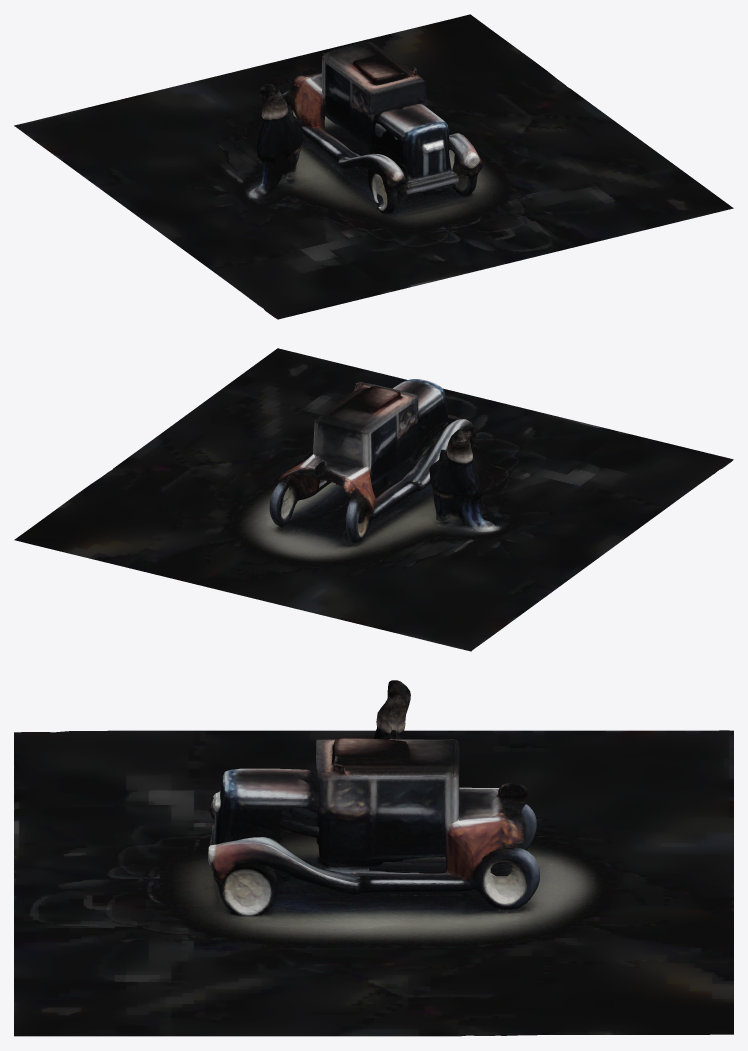
Rendered from trellis_result.glb.
3 renders of one model, top to bottom at view 1: azimuth 30°, elevation 25°; view 2: azimuth 150°, elevation 25°; view 3: azimuth 270°, elevation 25°, orthographic. The views are drawn at different scales.
Visible parts, largest first — view 1: world; view 2: world; view 3: world.
Boxes of the visible parts, bbox=[...] form: world: bbox=[14, 14, 733, 319]; world: bbox=[14, 348, 733, 651]; world: bbox=[14, 680, 733, 1036].
Bounding box in the file's own units: 1 × 0.2156 × 1.
1 material, 1 textured.
